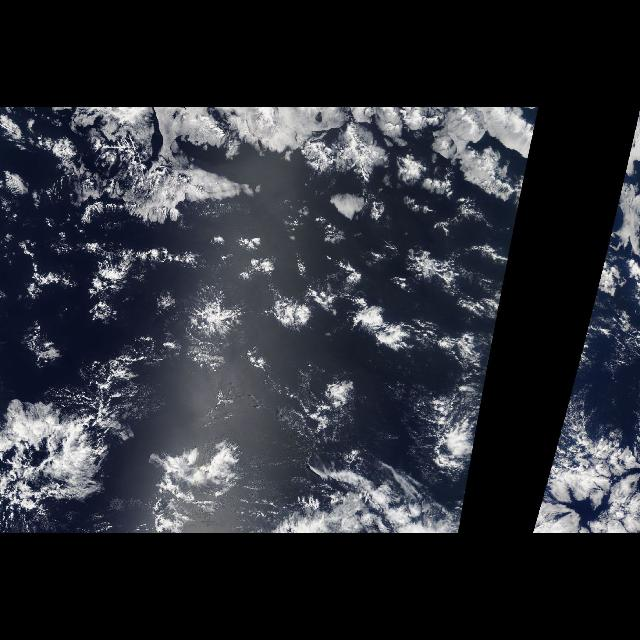Flower: (68, 110, 490, 362)
